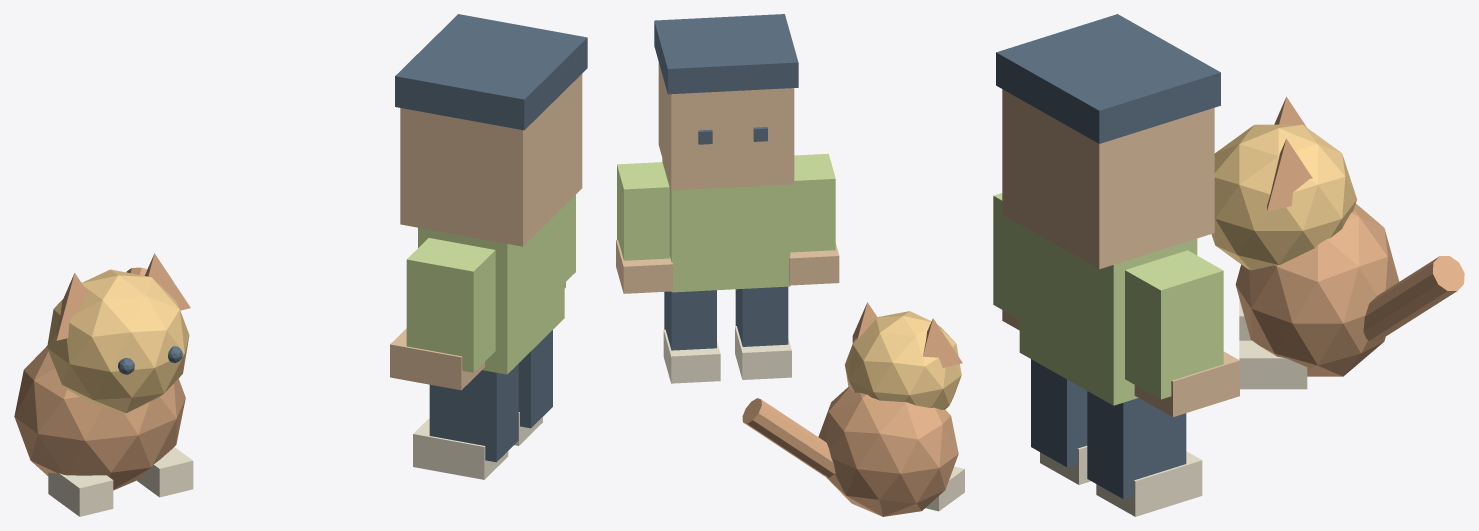
File: pet.glb
The picture shows the model from 3 angles, left to right: view 1: azimuth 30°, elevation 25°; view 2: azimuth 150°, elevation 25°; view 3: azimuth 270°, elevation 25°; orthographic projection. The views are drawn at different scales.
Parts seen in each view (by area): view 1: Preview_head, Preview_hair, Kopi_head, Kopi_body, Preview_RightArm, Preview_body, Preview_RightLeg, Preview_tip.003, Preview_tip.001, Preview_LeftLeg, Paw, Paw.001 (+3 smaller); view 2: Kopi_body, Preview_head, Preview_body, Preview_hair, Kopi_head, Preview_LeftArm, Preview_RightArm, Preview_RightLeg, Preview_LeftLeg, Tail, Preview_tip.002, Preview_tip.003 (+5 smaller); view 3: Preview_head, Preview_hair, Kopi_body, Preview_body, Kopi_head, Preview_LeftArm, Preview_LeftLeg, Preview_RightLeg, Tail, Preview_tip.002, Preview_tip, Preview_RightArm (+3 smaller).
Boxes of the visible parts, <box> form: Preview_head: <box>400,74,582,246</box>; Preview_hair: <box>395,14,587,130</box>; Kopi_head: <box>47,269,189,413</box>; Kopi_body: <box>14,346,185,490</box>; Preview_RightArm: <box>406,238,495,372</box>; Preview_body: <box>418,206,564,374</box>; Preview_RightLeg: <box>429,364,518,462</box>; Preview_tip.003: <box>413,418,508,479</box>; Preview_tip.001: <box>390,328,484,390</box>; Preview_LeftLeg: <box>518,330,552,428</box>; Paw: <box>48,472,113,516</box>; Paw.001: <box>137,447,193,497</box>; Kopi_body: <box>818,387,958,516</box>; Preview_head: <box>658,62,794,190</box>; Preview_body: <box>662,158,790,292</box>; Preview_hair: <box>654,14,798,94</box>; Kopi_head: <box>845,311,961,409</box>; Preview_LeftArm: <box>617,162,669,260</box>; Preview_RightArm: <box>790,153,835,252</box>; Preview_RightLeg: <box>735,286,788,346</box>; Preview_LeftLeg: <box>664,290,716,350</box>; Tail: <box>742,398,835,477</box>; Preview_tip.002: <box>663,329,720,383</box>; Preview_tip.003: <box>735,326,791,379</box>; Preview_head: <box>1002,89,1214,269</box>; Preview_hair: <box>996,14,1220,143</box>; Kopi_body: <box>1235,203,1399,376</box>; Preview_body: <box>1019,224,1197,405</box>; Kopi_head: <box>1211,124,1356,270</box>; Preview_LeftArm: <box>1125,250,1223,399</box>; Preview_LeftLeg: <box>1087,391,1186,499</box>; Preview_RightLeg: <box>1031,359,1087,467</box>; Tail: <box>1363,256,1464,340</box>; Preview_tip.002: <box>1096,451,1202,516</box>; Preview_tip: <box>1134,351,1239,416</box>; Preview_RightArm: <box>993,193,1019,319</box>.
Size of the model in its own units: 2.27 by 1.96 by 1.8.
